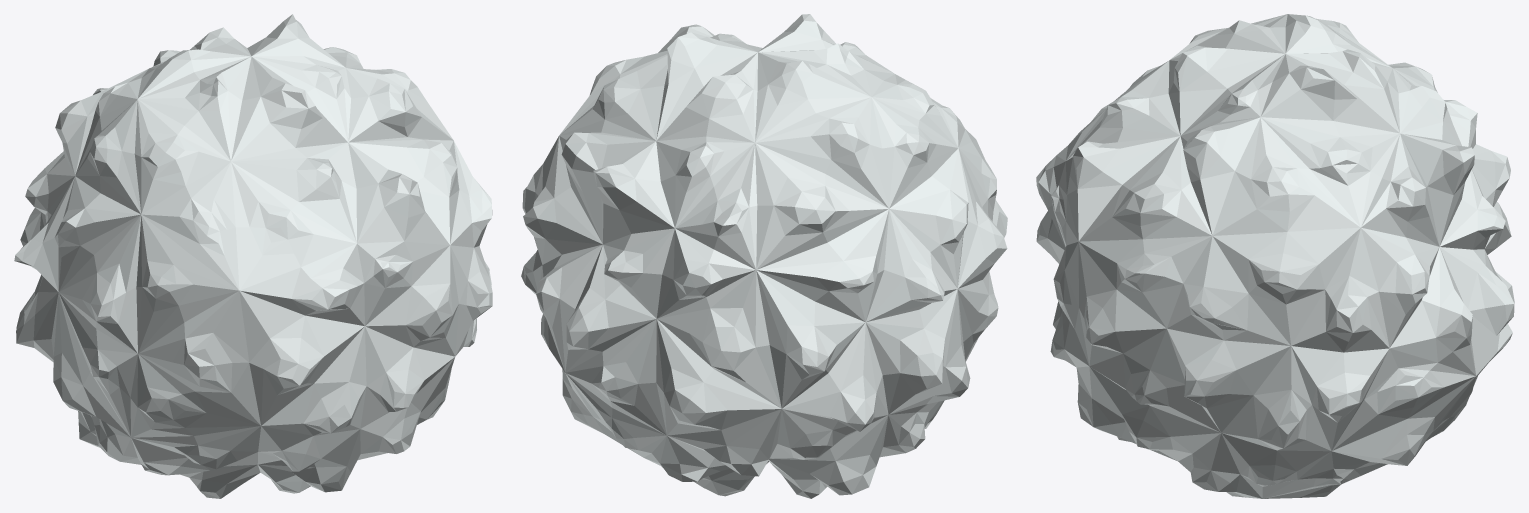
3 views of the same model, side by side, from view 1: azimuth 30°, elevation 25°; view 2: azimuth 150°, elevation 25°; view 3: azimuth 270°, elevation 25° (orthographic).
Visible parts, largest first — view 1: White_Blood_Cell; view 2: White_Blood_Cell; view 3: White_Blood_Cell.
Part boxes in pixels (box(x1,y1,x2,y2)): White_Blood_Cell: box(14, 14, 492, 498); White_Blood_Cell: box(521, 14, 1007, 498); White_Blood_Cell: box(1036, 14, 1514, 498).
Size of the model in its own units: 19.99 by 19.72 by 19.71.
1 material, 1 textured.
